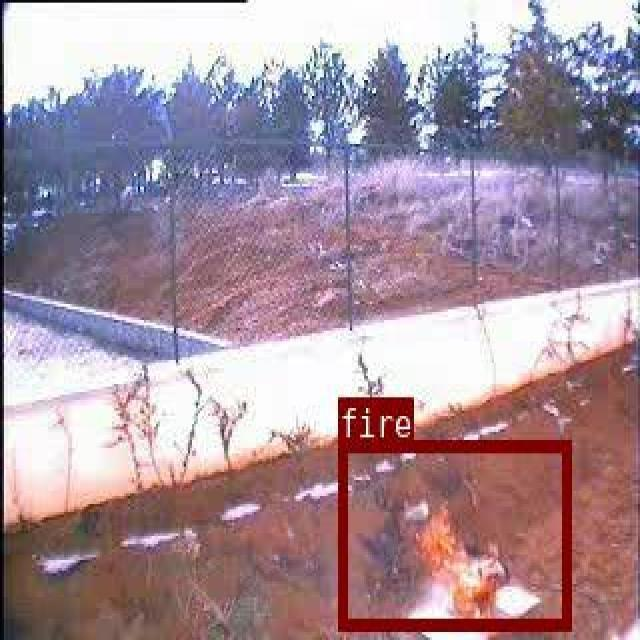fire: (338, 438, 569, 628)
